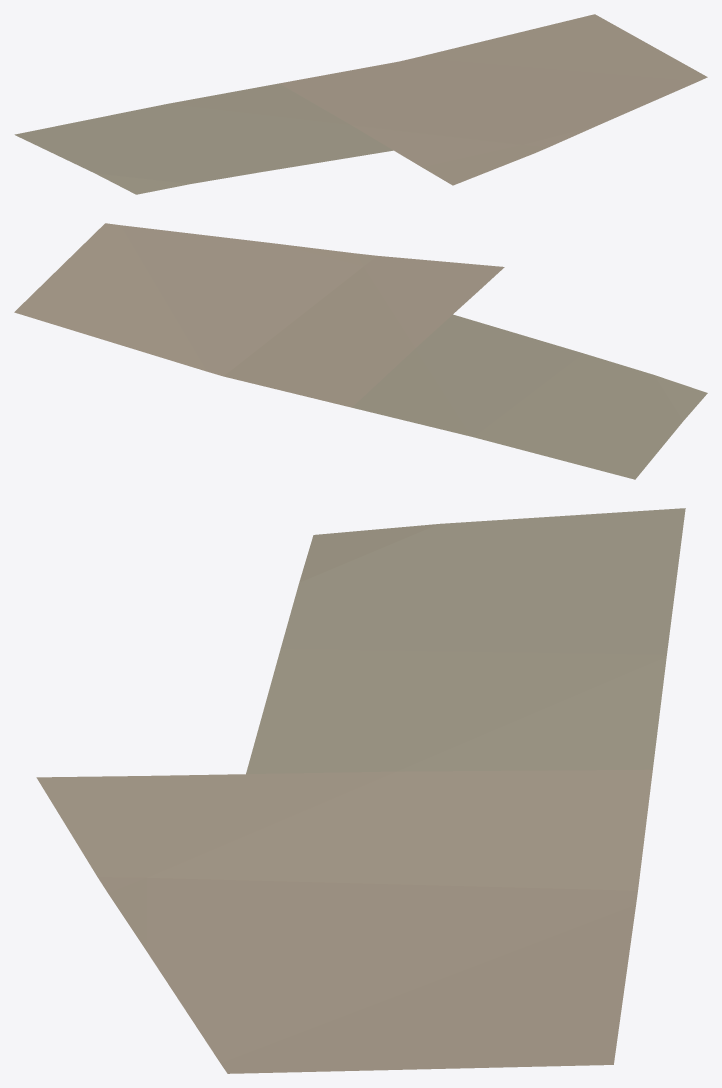
File: farm_19_12_soil.glb
3 renders of one model, top to bottom at view 1: azimuth 30°, elevation 25°; view 2: azimuth 150°, elevation 25°; view 3: azimuth 270°, elevation 25°, orthographic. The views are drawn at different scales.
Parts seen in each view (by area): view 1: geometry_0; view 2: geometry_0; view 3: geometry_0.
Boxes of the visible parts, left/top/right/bottom form: geometry_0: left=14, top=14, right=707, bottom=194; geometry_0: left=14, top=223, right=707, bottom=479; geometry_0: left=36, top=508, right=685, bottom=1073.
Size of the model in its own units: 204 by 3.69 by 99.14.
